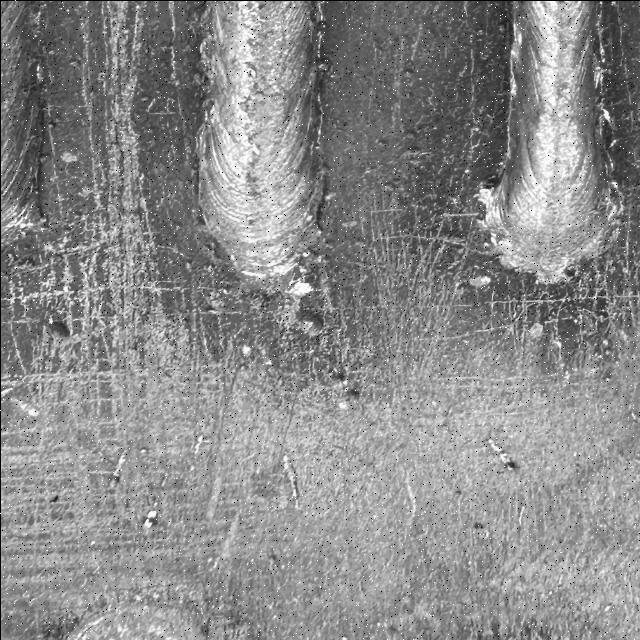Excess Reinforcement: (227, 248, 318, 296), (490, 230, 572, 282), (483, 186, 512, 248), (473, 175, 500, 205), (490, 233, 496, 245), (478, 219, 484, 228)
Spatters: (295, 311, 323, 336), (43, 319, 70, 338), (338, 387, 358, 406), (142, 508, 156, 528), (107, 475, 120, 491), (327, 371, 345, 381), (267, 552, 278, 566), (503, 460, 517, 470), (138, 446, 148, 454)
